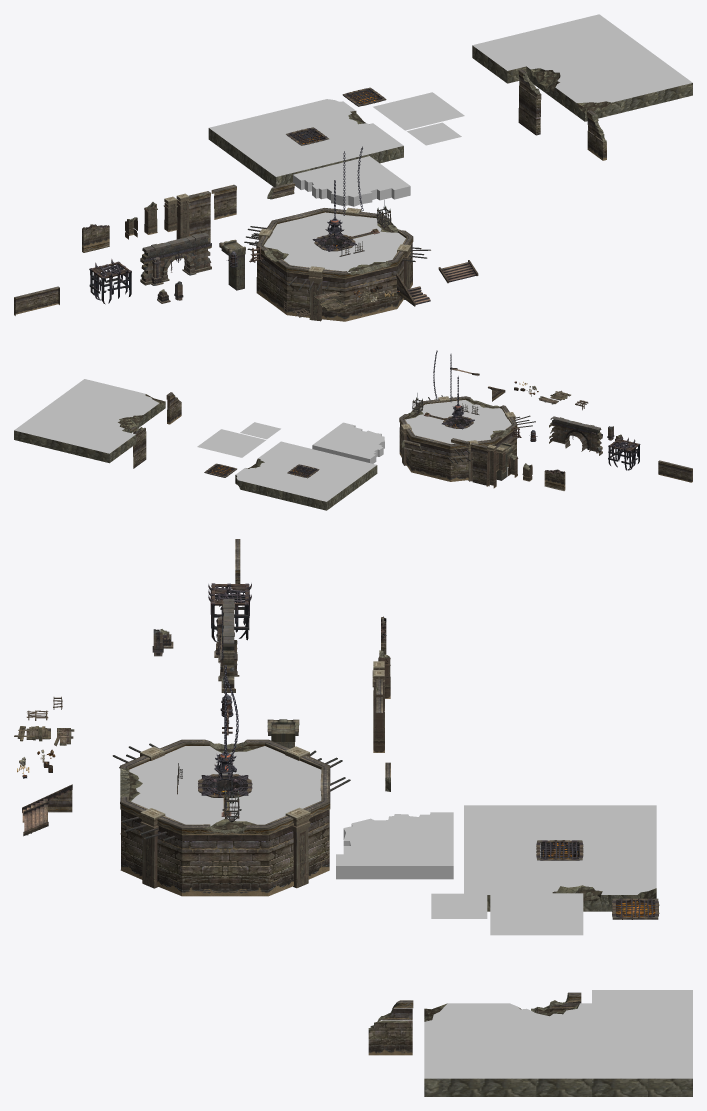
File: f_1117_wujian.FBX
3 views of the same model, one above another, from view 1: azimuth 30°, elevation 25°; view 2: azimuth 150°, elevation 25°; view 3: azimuth 270°, elevation 25° (orthographic). The views are drawn at different scales.
Visible parts, largest first — view 1: Object035, f_1117_floor01, f_1117_floor02, f_1117_floor05, f_1117_floor15, f_1117_floor03, f_1117_floor14, f_1117_floor093, f_1117_floor091, f_1117_floor13, f_1117_floor06, f_1117_floor092 (+7 smaller); view 2: f_1117_floor01, Object035, f_1117_floor02, f_1117_floor05, f_1117_floor15, f_1117_floor03, f_1117_floor14, f_1117_floor091, f_1117_floor13, f_1117_floor093, f_1117_floor12, f_1117_floor04 (+6 smaller); view 3: Object035, f_1117_floor01, f_1117_floor02, f_1117_floor05, f_1117_floor03, f_1117_floor08, f_1117_floor04, f_1117_floor15, f_1117_floor14, Object038, Object036, f_1117_floor22.
Boxes of the visible parts, x1,y1,x2,y2 form: Object035: (244,207,430,321); f_1117_floor01: (472,14,692,121); f_1117_floor02: (208,99,403,186); f_1117_floor05: (293,156,410,206); f_1117_floor15: (140,232,211,285); f_1117_floor03: (373,92,464,130); f_1117_floor14: (89,259,131,304); f_1117_floor093: (518,69,541,135); f_1117_floor091: (188,191,210,243); f_1117_floor13: (14,286,59,315); f_1117_floor06: (219,239,245,290); f_1117_floor092: (211,184,236,219); f_1117_floor01: (14,379,165,463); Object035: (399,395,535,481); f_1117_floor02: (235,441,377,510); f_1117_floor05: (312,422,384,463); f_1117_floor15: (549,416,602,455); f_1117_floor03: (197,429,265,457); f_1117_floor14: (608,436,640,470); f_1117_floor091: (470,443,489,486); f_1117_floor13: (658,460,692,482); f_1117_floor093: (130,426,146,468); f_1117_floor12: (544,469,565,490); f_1117_floor04: (240,422,280,439); Object035: (112,739,350,896); f_1117_floor01: (424,990,692,1096); f_1117_floor02: (464,805,656,911); f_1117_floor05: (336,812,453,879); f_1117_floor03: (490,893,583,935); f_1117_floor08: (368,1000,413,1055); f_1117_floor04: (431,893,487,918); f_1117_floor15: (218,599,239,692); f_1117_floor14: (208,583,251,642); Object038: (612,898,659,919); Object036: (536,840,583,860); f_1117_floor22: (198,774,252,797).
Size of the model in its own units: 22119 by 3874 by 12212.
